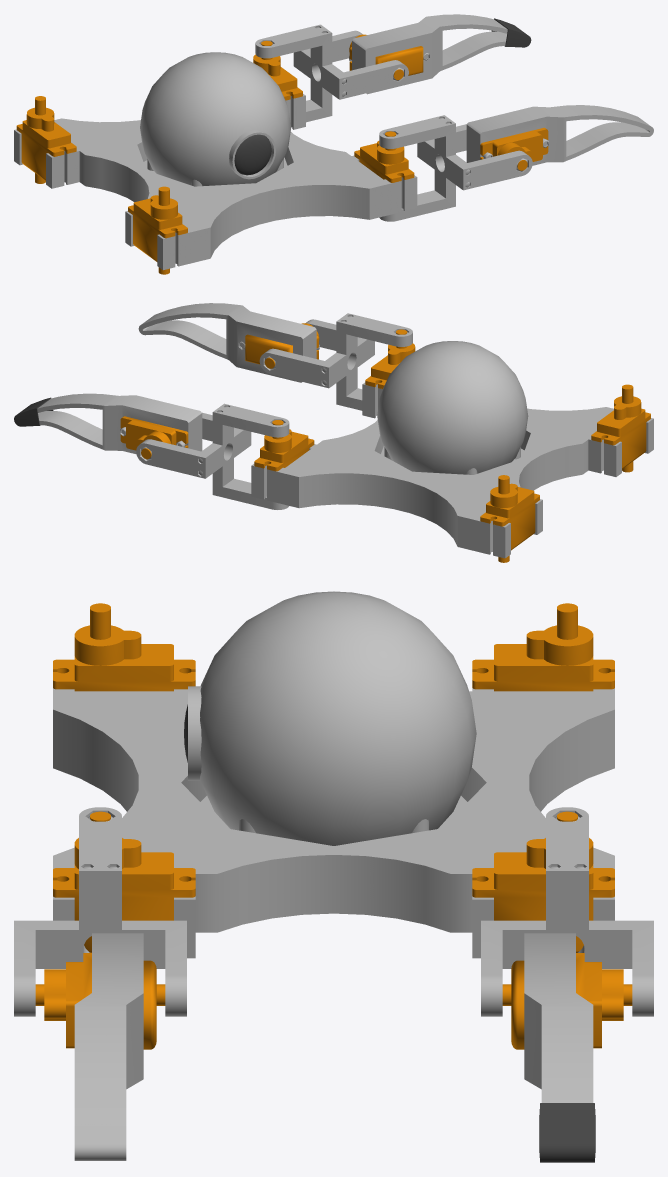
The model's file is spider.glb.
The picture shows the model from 3 angles, top to bottom: view 1: azimuth 30°, elevation 25°; view 2: azimuth 150°, elevation 25°; view 3: azimuth 270°, elevation 25°; orthographic projection. The views are drawn at different scales.
Visible parts, largest first — view 1: base, top, barm_002, barm_001, farm_002, farm_001, servo_002, servo_004, servo_003, servo_006, Sphere001, servo_001 (+3 smaller); view 2: base, top, barm_001, barm_002, farm_002, farm_001, servo_004, servo_002, servo_001, servo_005, servo_003, servo_006 (+1 smaller); view 3: base, top, farm_002, barm_001, barm_002, farm_001, servo_002, servo_004, servo_003, servo_001, servo_005, servo_006 (+2 smaller).
Part boxes in pixels (x1,y1,x2,y2): base: (14,94,417,270); top: (140,52,291,185); barm_002: (379,115,532,221); barm_001: (255,24,408,122); farm_002: (466,105,653,165); farm_001: (349,14,507,94); servo_002: (16,96,76,183); servo_004: (128,186,187,274); servo_003: (354,131,414,182); servo_006: (480,127,548,170); Sphere001: (234,134,271,175); servo_001: (253,40,302,100); base: (251,382,653,558); top: (377,341,528,474); barm_001: (136,403,289,509); barm_002: (259,313,412,410); farm_002: (138,303,319,382); farm_001: (37,393,202,453); servo_004: (591,384,650,472); servo_002: (480,475,539,562); servo_001: (254,420,314,471); servo_005: (120,416,188,459); servo_003: (365,329,415,388); servo_006: (245,323,319,368); base: (53,688,614,958); top: (200,591,476,845); farm_002: (74,933,143,1160); barm_001: (481,807,653,1016); barm_002: (14,807,186,1016); farm_001: (524,933,593,1102); servo_002: (472,603,614,691); servo_004: (53,603,195,691); servo_003: (53,811,195,952); servo_001: (472,811,614,952); servo_005: (502,953,632,1049); servo_006: (35,953,165,1049).
Bounding box in the file's own units: 0.2505 × 0.0675 × 0.148.
